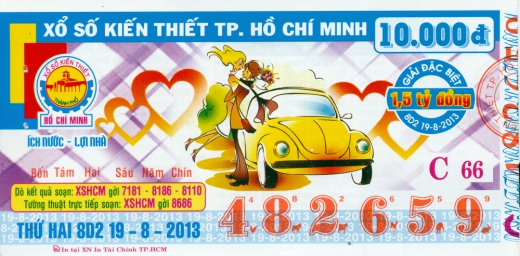serial_zone: (214, 190, 501, 244)
